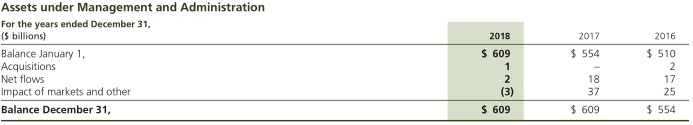column: (1, 1, 266, 125), (489, 1, 515, 124), (578, 1, 602, 124), (654, 1, 677, 125), (481, 1, 488, 125), (645, 1, 652, 125), (570, 1, 576, 125)
row: (1, 2, 692, 14), (1, 87, 692, 98), (1, 49, 693, 59), (1, 104, 693, 114), (1, 31, 693, 40), (1, 74, 693, 83), (1, 20, 693, 28), (1, 62, 693, 70)
